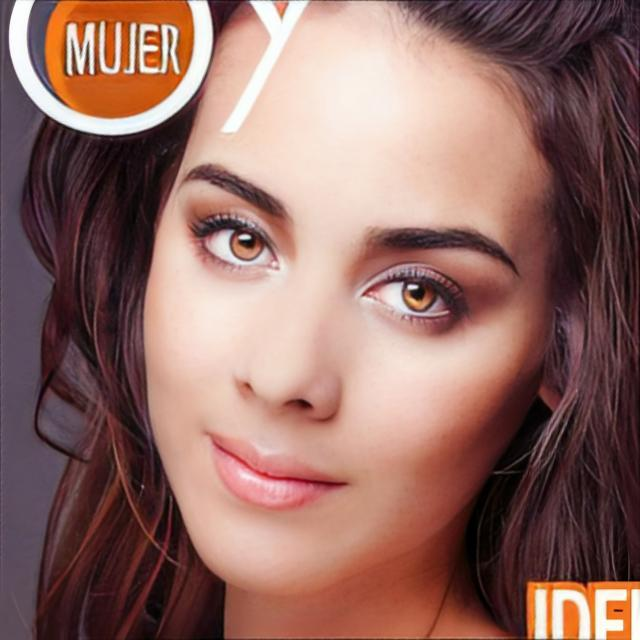content: (140, 0, 558, 601)
